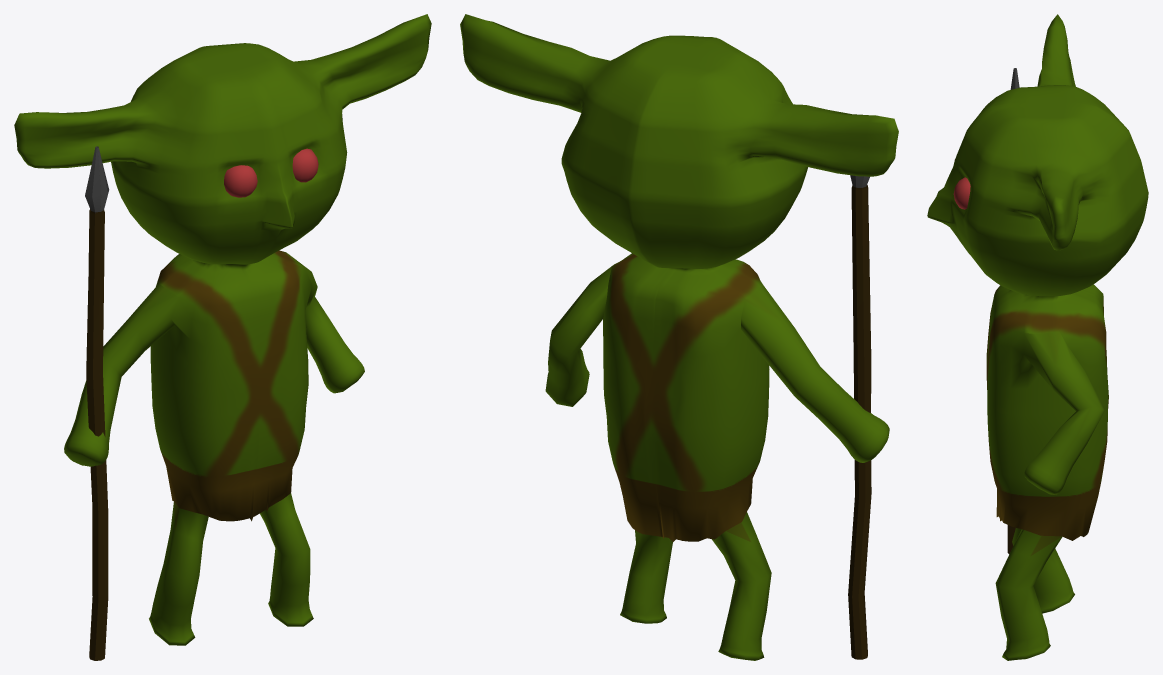
File: Goblin.fbx
The picture shows the model from 3 angles, left to right: view 1: azimuth 30°, elevation 25°; view 2: azimuth 150°, elevation 25°; view 3: azimuth 270°, elevation 25°; orthographic projection. The views are drawn at different scales.
Visible parts, largest first — view 1: Body, Spear, Right_Eye, Left_Eye; view 2: Body, Spear; view 3: Body, Left_Eye.
Boxes of the visible parts, x1,y1,x2,y2 form: Body: (14, 14, 431, 645); Spear: (85, 146, 109, 660); Right_Eye: (224, 165, 257, 197); Left_Eye: (292, 148, 318, 182); Body: (460, 14, 898, 660); Spear: (848, 175, 871, 659); Body: (927, 14, 1148, 660); Left_Eye: (953, 177, 970, 209).
Bounding box in the file's own units: 2.46 × 3.17 × 1.19.
